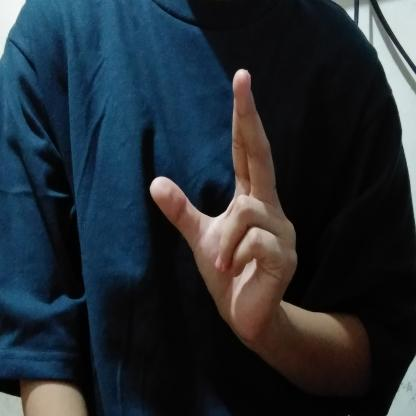who: (138, 63, 310, 356)
